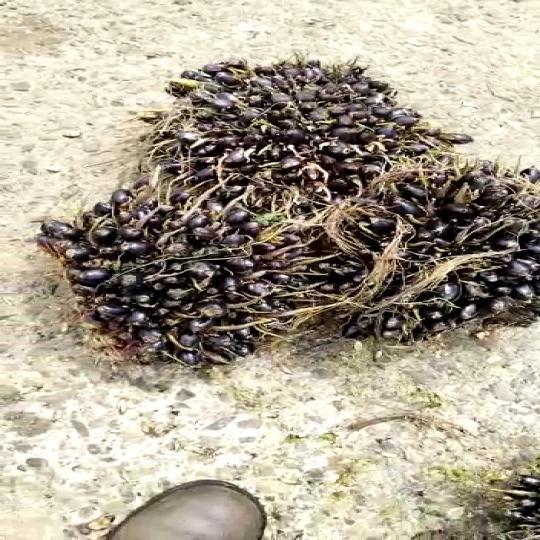mentah: (23, 135, 366, 364), (332, 154, 540, 340), (174, 58, 416, 214)
